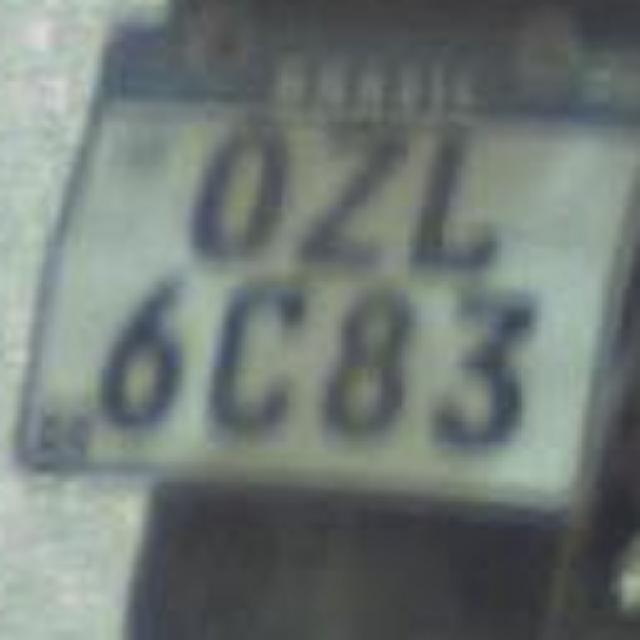3: (408, 268, 552, 452)
6: (85, 256, 200, 449)
8: (304, 260, 428, 452)
C: (180, 256, 325, 436)
L: (388, 108, 524, 280)
O: (168, 100, 304, 272)
Z: (276, 109, 412, 276)
